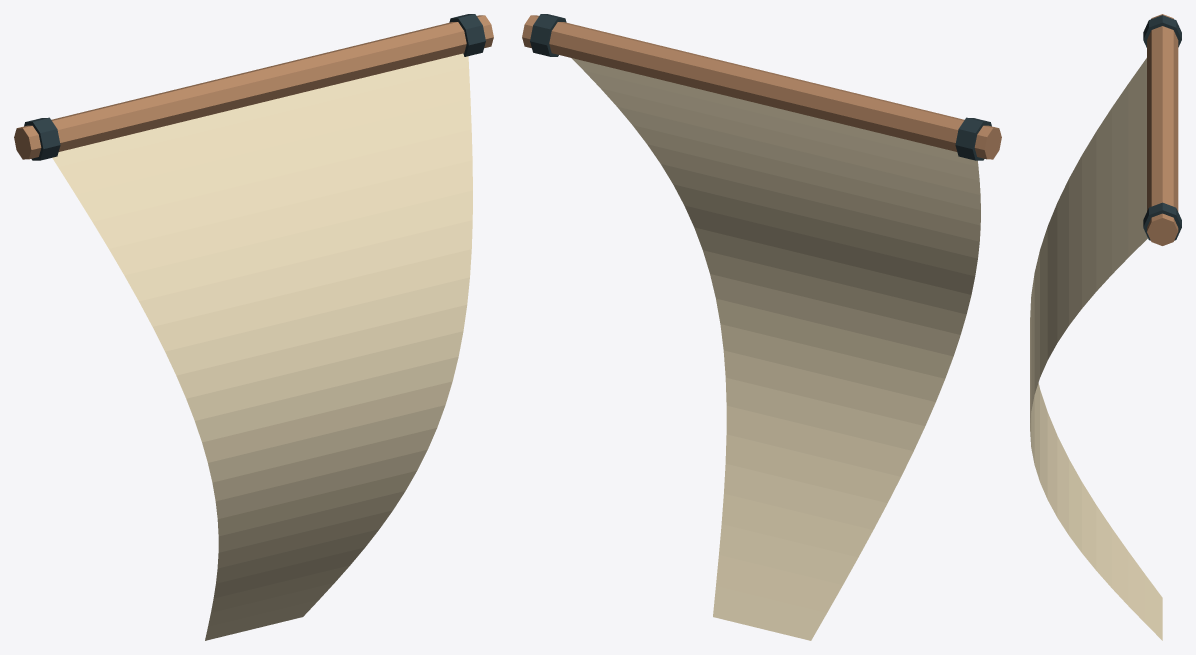
The model's file is secondary_sail_streamer.glb.
3 views of the same model, side by side, from view 1: azimuth 30°, elevation 25°; view 2: azimuth 150°, elevation 25°; view 3: azimuth 270°, elevation 25° (orthographic). The views are drawn at different scales.
Parts seen in each view (by area): view 1: secondary_sail cloth streamer, secondary_sail yard.004, Yard iron collar.018, Yard iron collar.019; view 2: secondary_sail cloth streamer, secondary_sail yard.004, Yard iron collar.018, Yard iron collar.019; view 3: secondary_sail cloth streamer, secondary_sail yard.004, Yard iron collar.019, Yard iron collar.018.
Part boxes in pixels (x1,y1,x2,y2): secondary_sail cloth streamer: [52, 53, 472, 640]; secondary_sail yard.004: [14, 15, 493, 159]; Yard iron collar.018: [24, 117, 60, 160]; Yard iron collar.019: [449, 14, 485, 56]; secondary_sail cloth streamer: [571, 58, 980, 640]; secondary_sail yard.004: [522, 15, 1001, 159]; Yard iron collar.018: [955, 117, 991, 160]; Yard iron collar.019: [530, 14, 566, 56]; secondary_sail cloth streamer: [1030, 58, 1162, 640]; secondary_sail yard.004: [1147, 14, 1178, 245]; Yard iron collar.019: [1143, 202, 1181, 240]; Yard iron collar.018: [1143, 15, 1181, 47].
Size of the model in its own units: 3.24 by 3.75 by 1.02.
